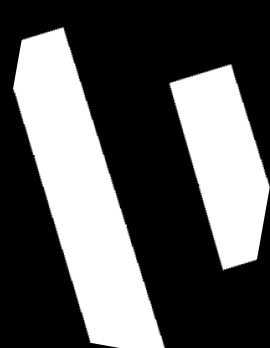parkingspot: (13, 27, 165, 348), (169, 64, 270, 270)
